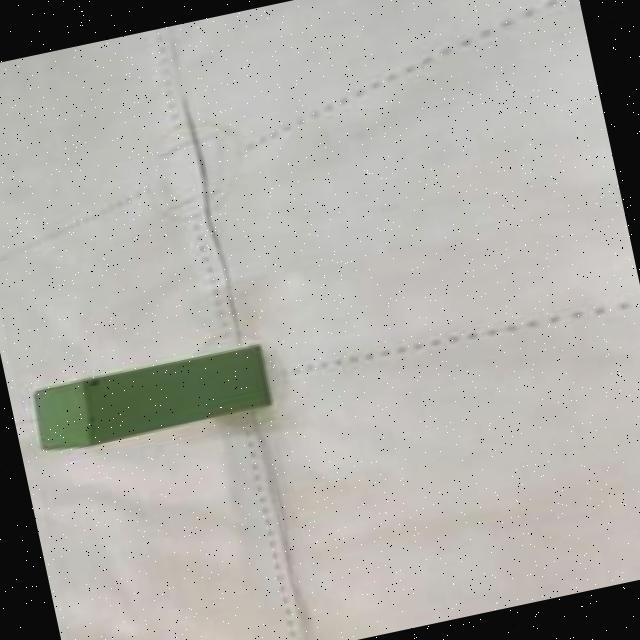greenbox: (32, 342, 268, 448)
